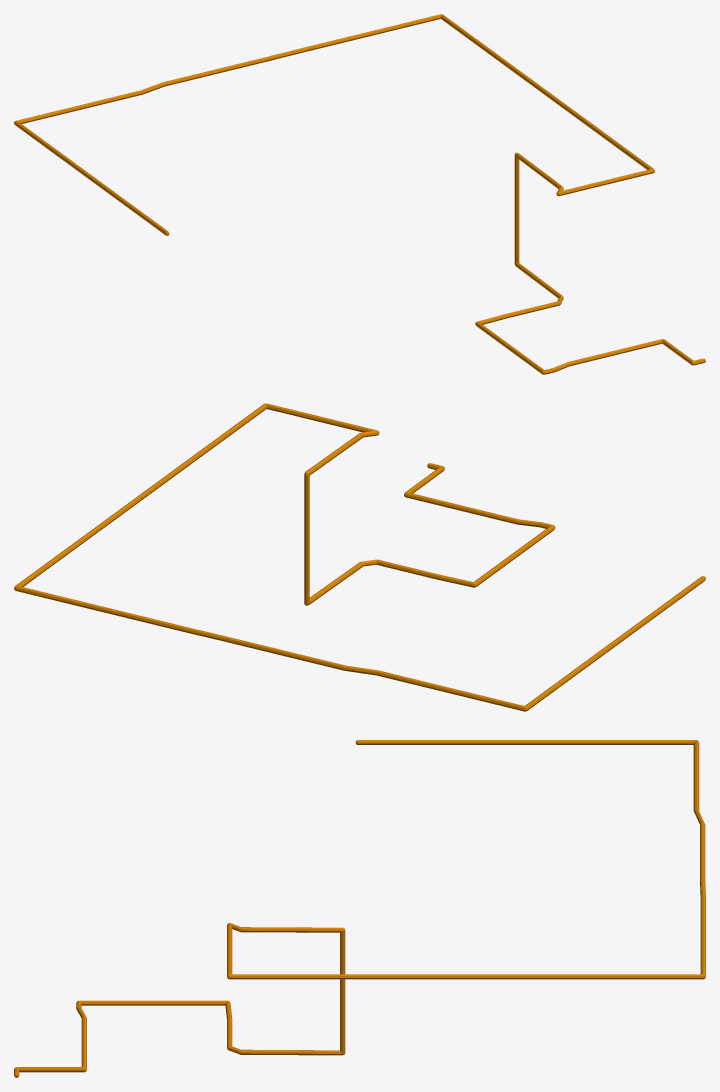
The picture shows the model from 3 angles, top to bottom: view 1: azimuth 30°, elevation 25°; view 2: azimuth 150°, elevation 25°; view 3: azimuth 270°, elevation 25°; orthographic projection. The views are drawn at different scales.
Bounding box in the file's own units: 2068 × 520 × 2557.
